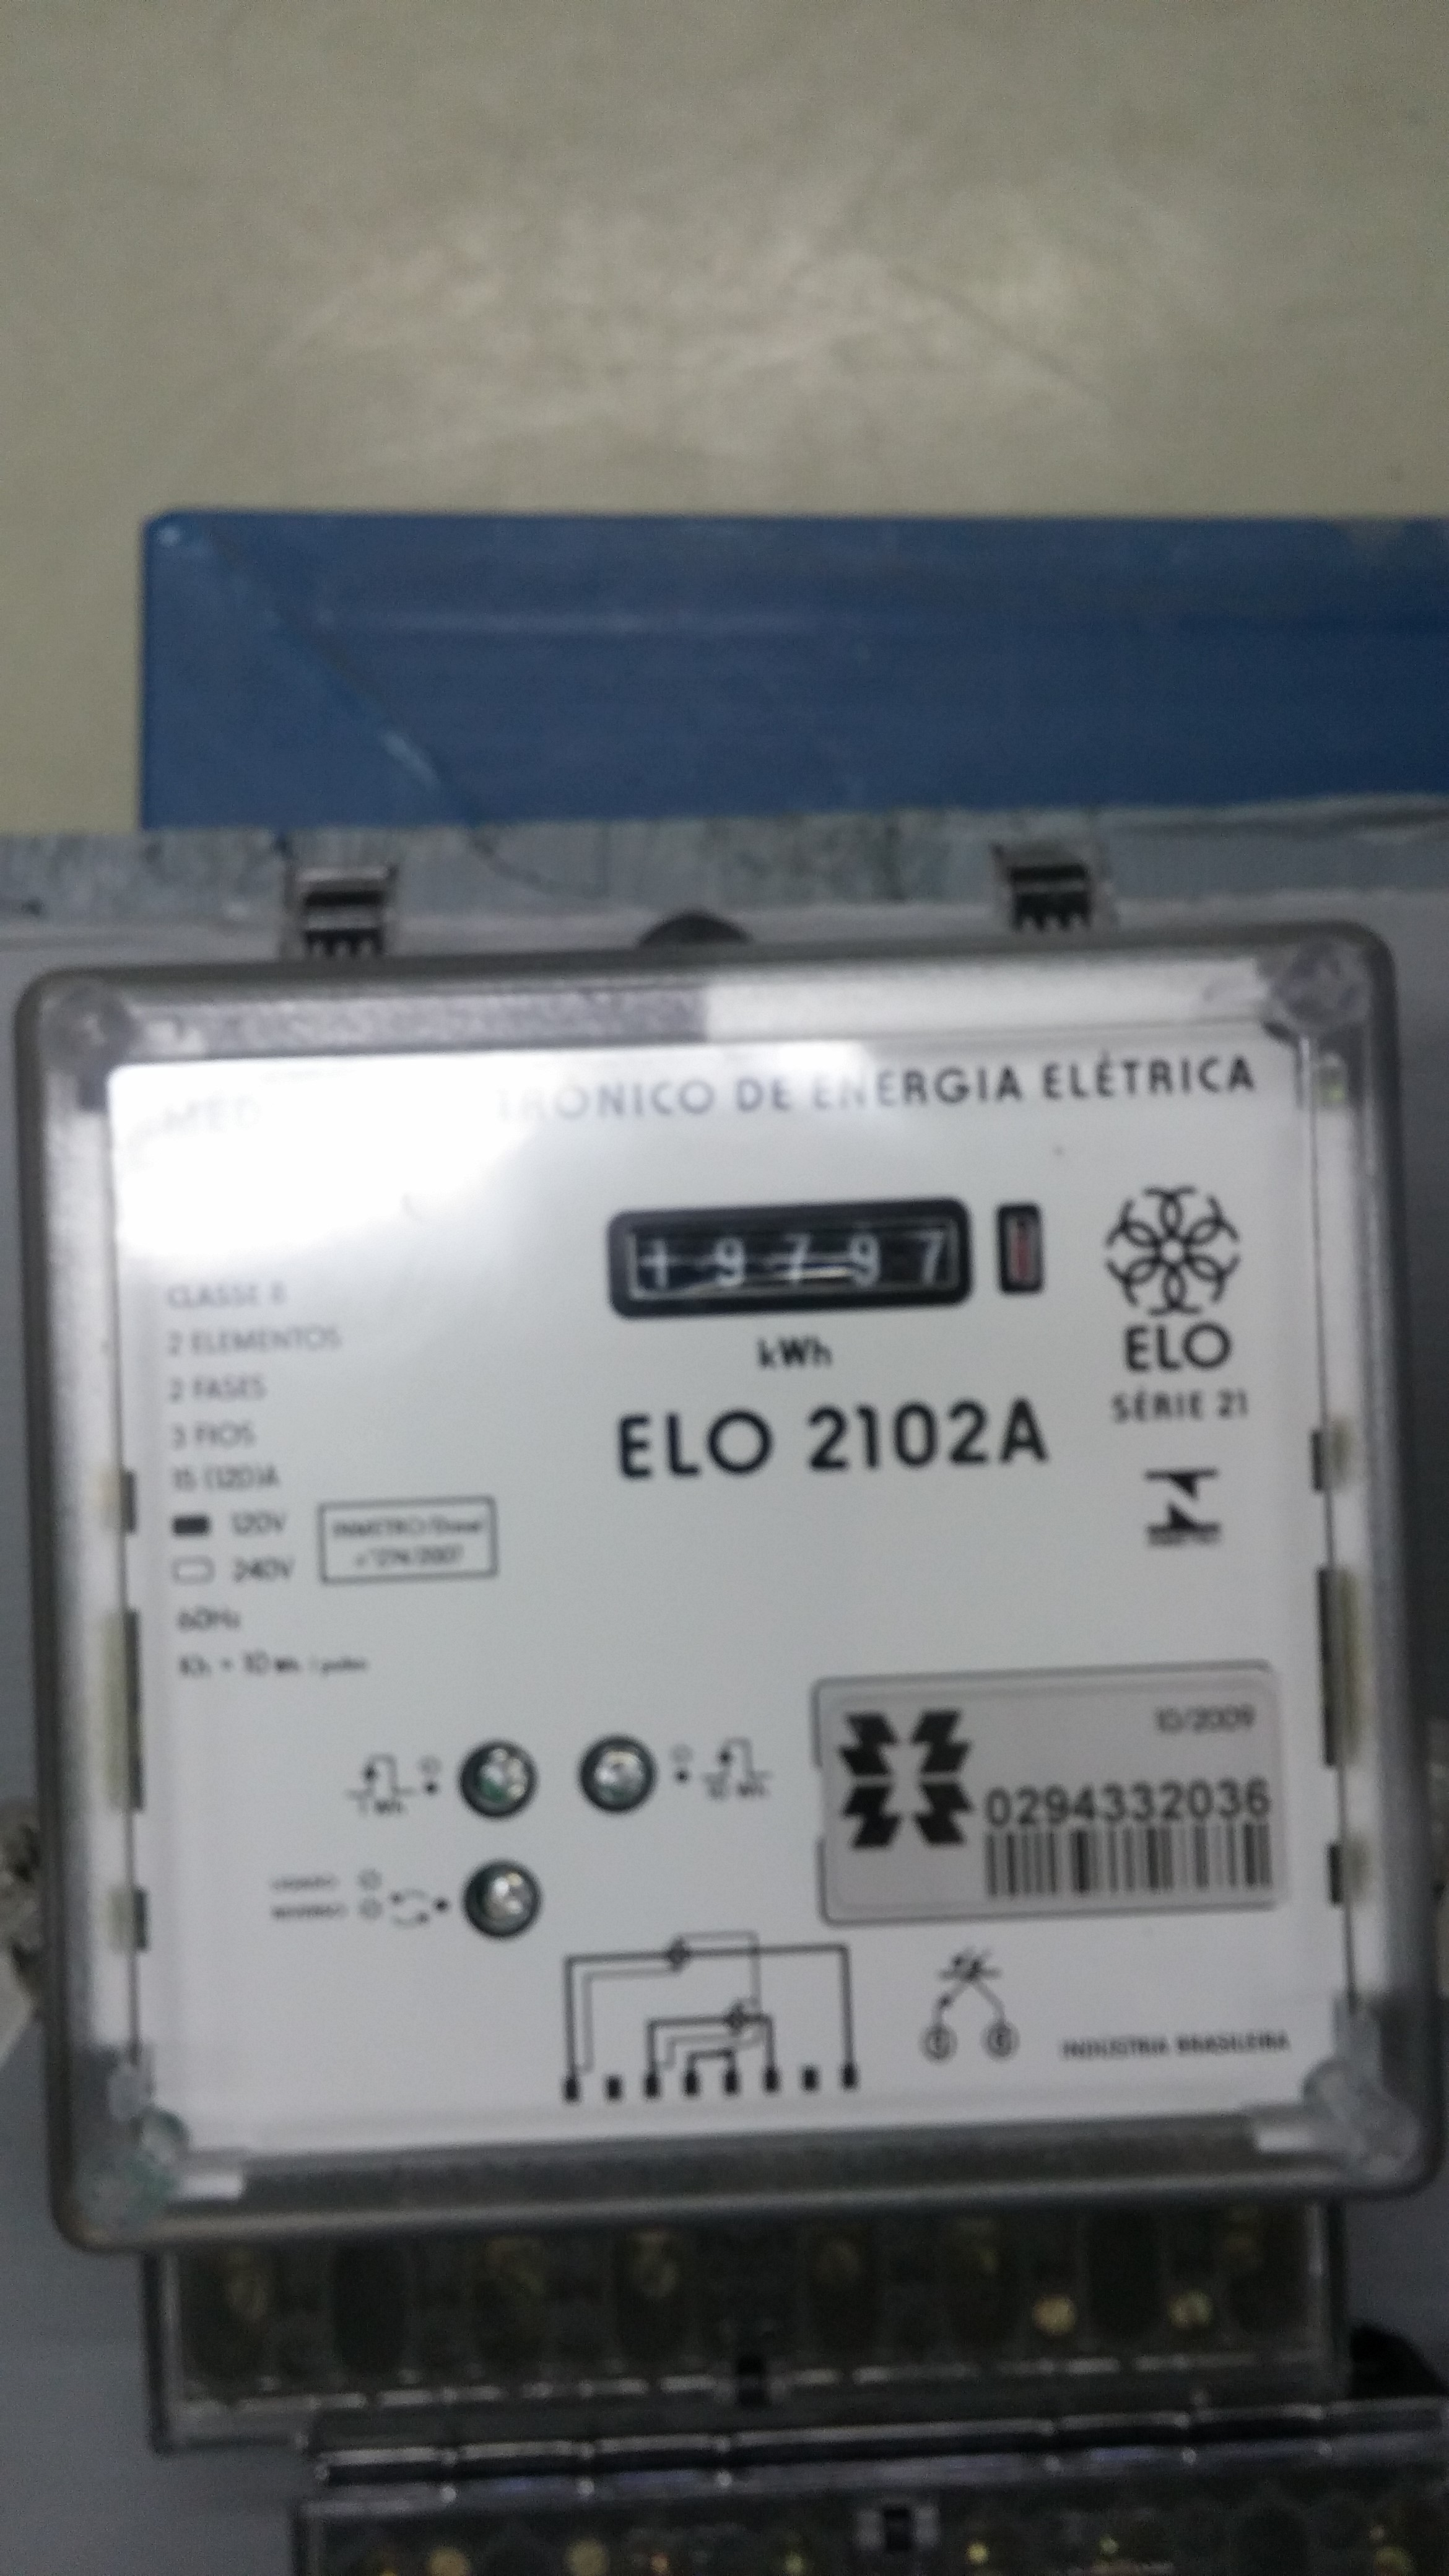counter2: (591, 1210, 996, 1339)
